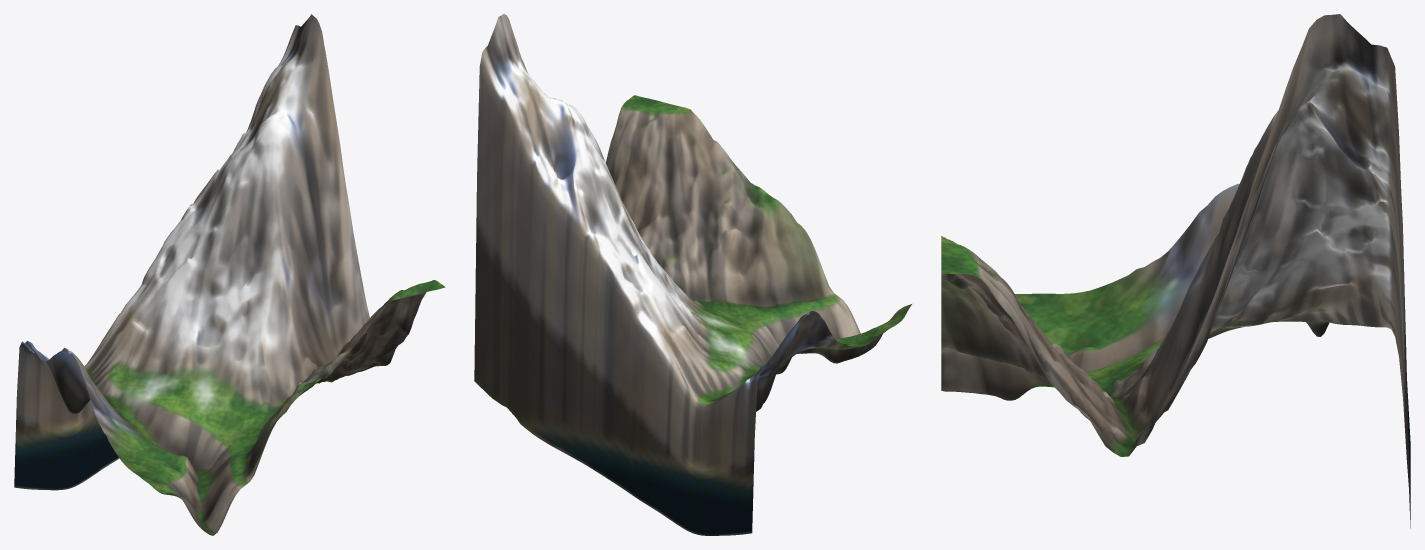
3 renders of one model, left to right at view 1: azimuth 30°, elevation 25°; view 2: azimuth 150°, elevation 25°; view 3: azimuth 270°, elevation 25°, orthographic. The views are drawn at different scales.
Parts seen in each view (by area): view 1: t064_192; view 2: t064_192; view 3: t064_192.
Part boxes in pixels (x1,y1,x2,y2): t064_192: [14, 14, 445, 535]; t064_192: [474, 14, 911, 535]; t064_192: [941, 14, 1410, 528].
Bounding box in the file's own units: 64 × 98.08 × 64.
1 material, 1 textured.
